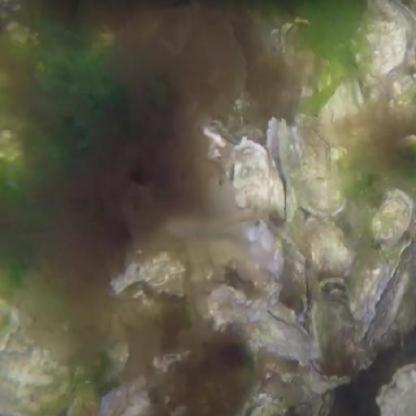3: (351, 239, 416, 347), (226, 137, 283, 221), (264, 117, 301, 223), (377, 362, 416, 416)
Oyster-Closed: (295, 120, 346, 219), (240, 316, 316, 364), (369, 190, 408, 244), (302, 368, 348, 396)
Oyster-Open: (106, 244, 188, 297), (353, 16, 408, 78), (322, 77, 365, 155), (304, 219, 351, 279), (0, 305, 21, 353)
